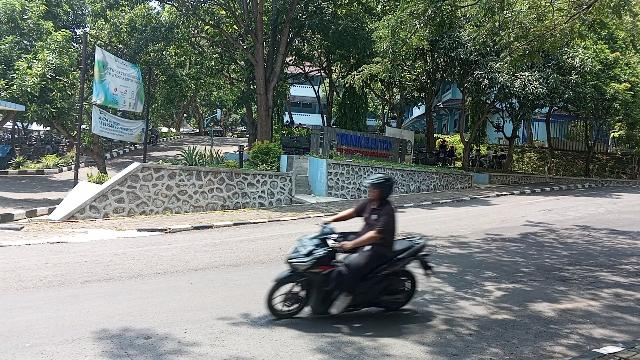helm: (366, 174, 395, 201)
motor: (269, 230, 437, 319)
